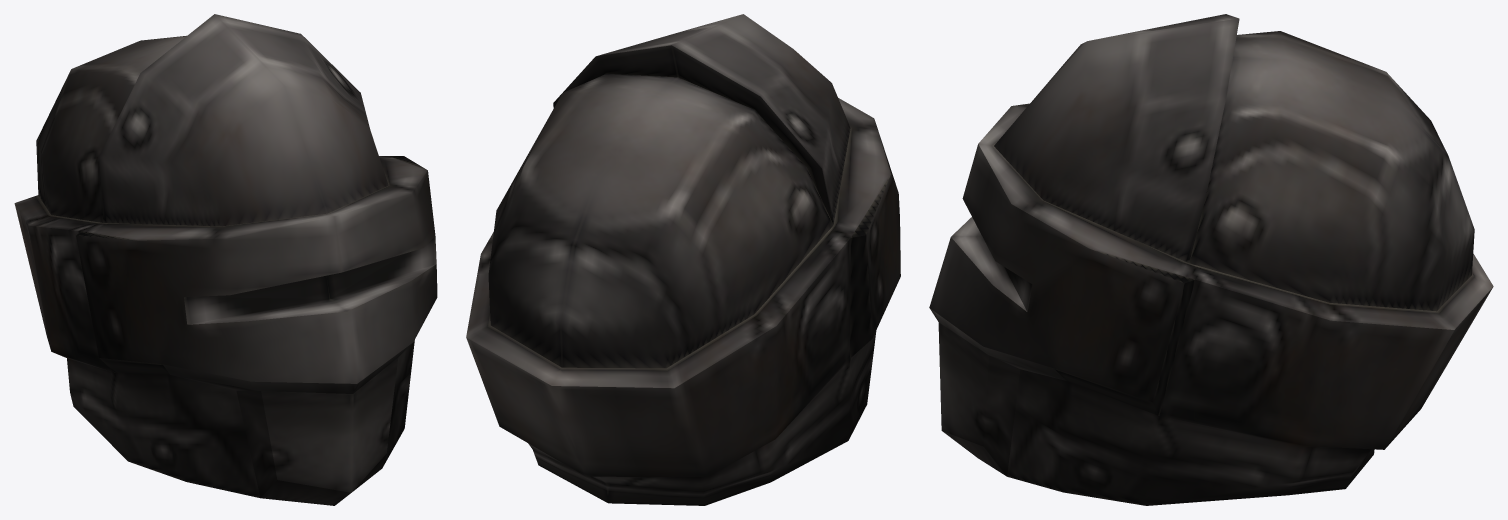
File: plate_helm_drop.fbx
3 renders of one model, left to right at view 1: azimuth 30°, elevation 25°; view 2: azimuth 150°, elevation 25°; view 3: azimuth 270°, elevation 25°, orthographic. The views are drawn at different scales.
Parts seen in each view (by area): view 1: Plate_Set/helmet; view 2: Plate_Set/helmet; view 3: Plate_Set/helmet.
Boxes of the visible parts, x1=… form: Plate_Set/helmet: x1=14, y1=14, x2=437, y2=505; Plate_Set/helmet: x1=466, y1=14, x2=900, y2=505; Plate_Set/helmet: x1=929, y1=14, x2=1493, y2=505.
Bounding box in the file's own units: 0.277 × 0.3263 × 0.3795.
